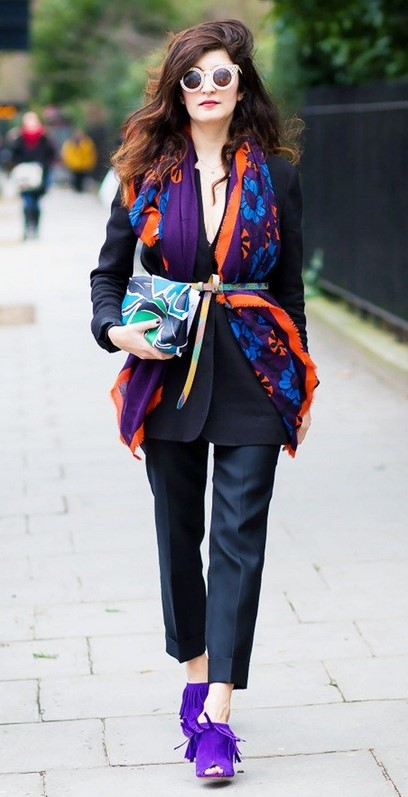face_no_mask: (170, 30, 247, 128)
